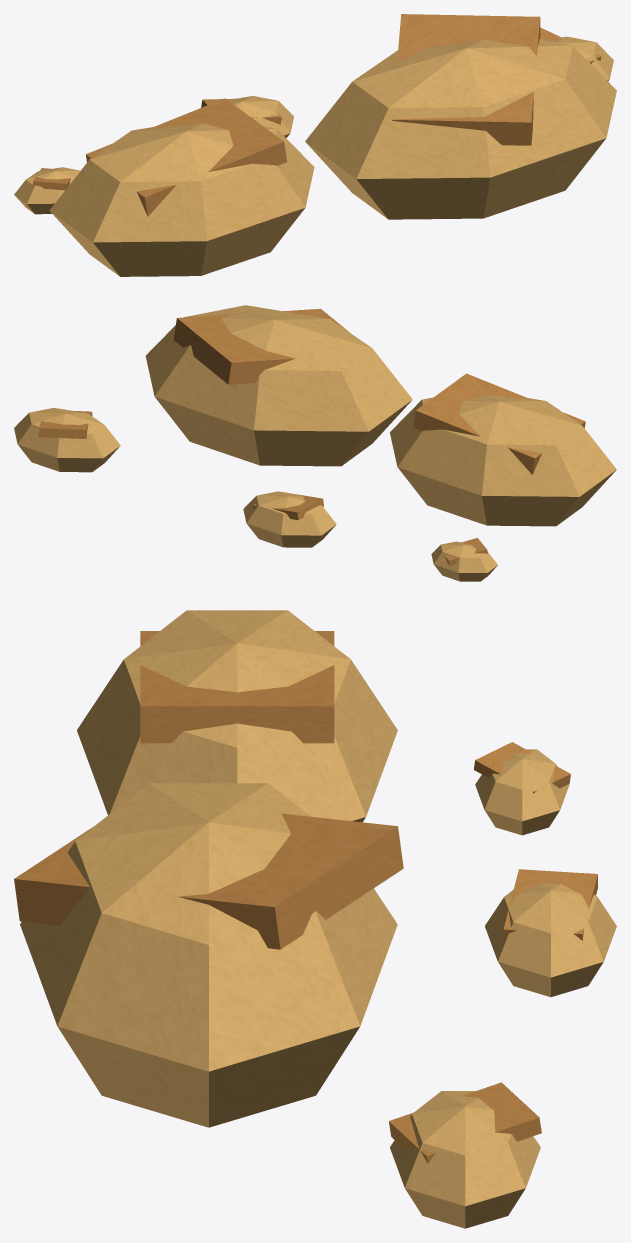
The model's file is food_scrap.obj.
The picture shows the model from 3 angles, top to bottom: view 1: azimuth 30°, elevation 25°; view 2: azimuth 150°, elevation 25°; view 3: azimuth 270°, elevation 25°; orthographic projection. The views are drawn at different scales.
Parts seen in each view (by area): view 1: food_scrap; view 2: food_scrap; view 3: food_scrap.
Boxes of the visible parts, x1,y1,x2,y2 form: food_scrap: (14, 14, 616, 276); food_scrap: (14, 305, 616, 581); food_scrap: (14, 610, 616, 1228).
Bounding box in the file's own units: 4.07 × 1 × 2.12.
1 material, 1 textured.
